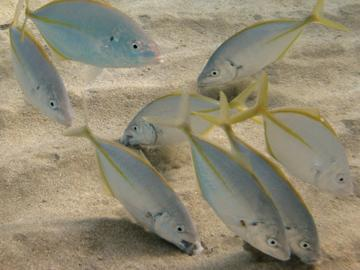Carangidae -Jacks-: (147, 97, 297, 261), (195, 96, 329, 270), (58, 94, 199, 256), (221, 69, 357, 197), (193, 0, 355, 87), (14, 0, 164, 69), (0, 0, 74, 129)
